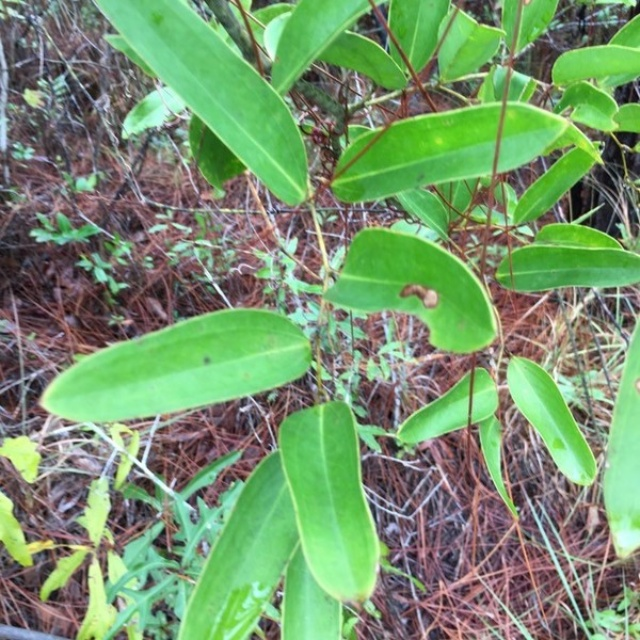obstacle: (83, 1, 601, 511)
